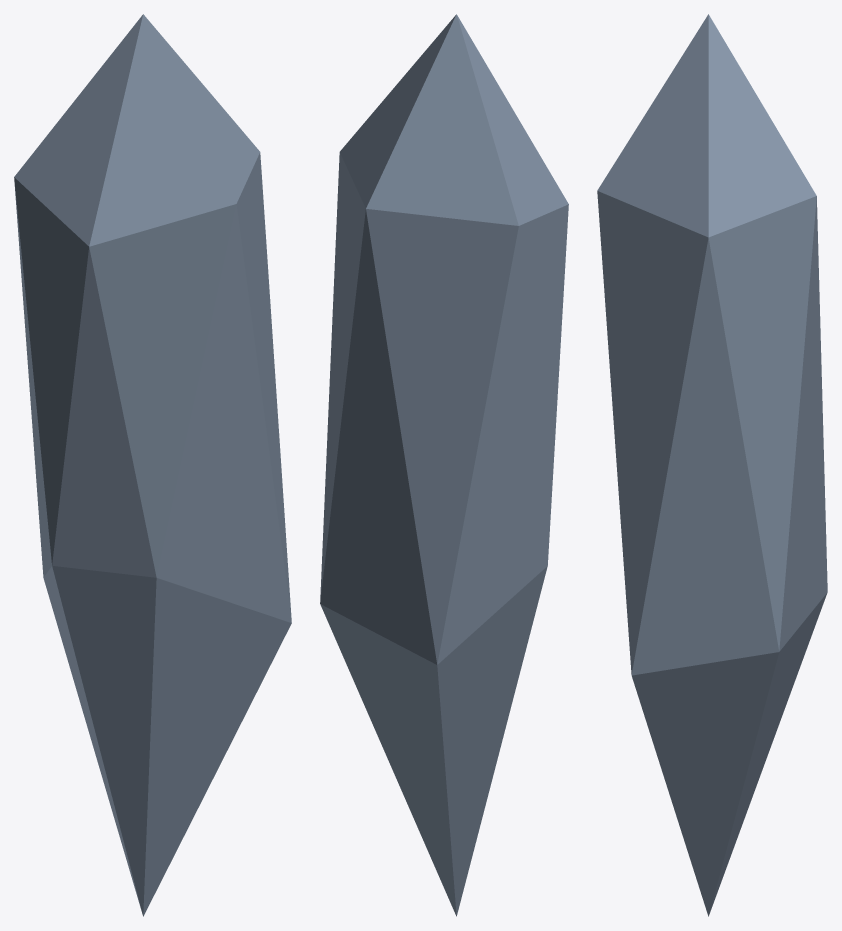
The model's file is Env_Rock_Shard.fbx.
The picture shows the model from 3 angles, left to right: view 1: azimuth 30°, elevation 25°; view 2: azimuth 150°, elevation 25°; view 3: azimuth 270°, elevation 25°; orthographic projection.
Parts seen in each view (by area): view 1: Env_Rock_Shard; view 2: Env_Rock_Shard; view 3: Env_Rock_Shard.
Boxes of the visible parts, x1=… form: Env_Rock_Shard: x1=14, y1=14, x2=291, y2=916; Env_Rock_Shard: x1=320, y1=14, x2=568, y2=916; Env_Rock_Shard: x1=597, y1=14, x2=827, y2=916.
Size of the model in its own units: 0.9869 by 4 by 0.9261.
